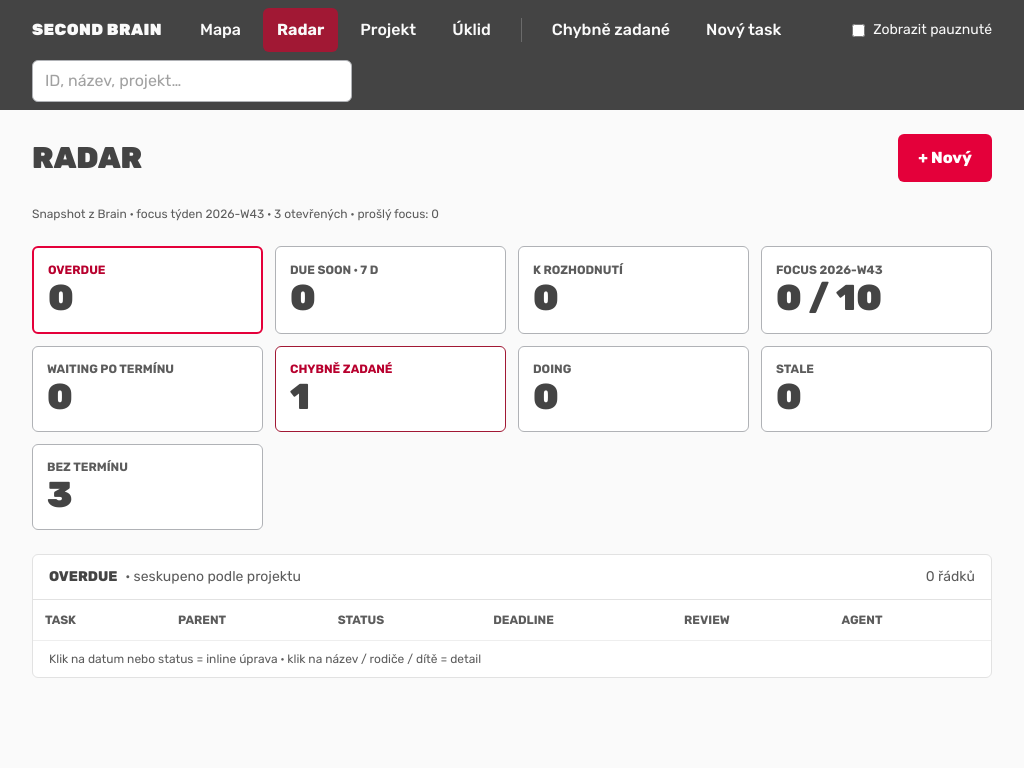
screens › B5 locks open children from a paused project and skips a Done child
Click the button "Úklid": point(471, 30) 438,8 -> 505,52
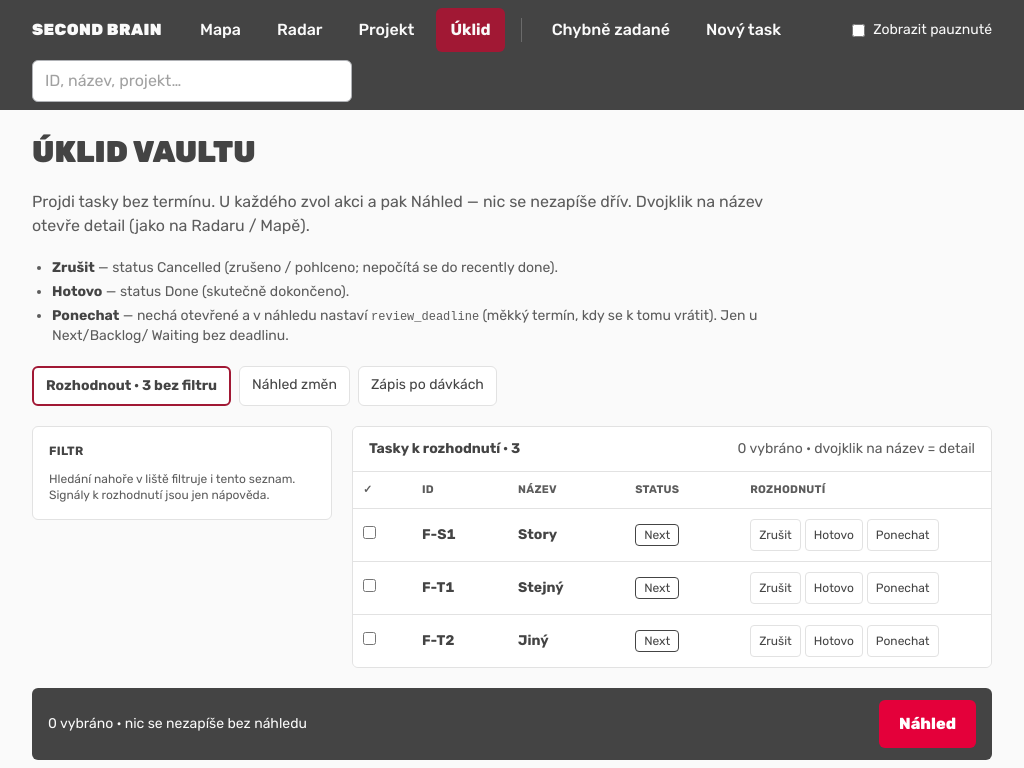
Check: the text "Pauza" is not shown
Click the checkbox named "Vybrat F-S1 — Story": point(370, 532) 363,526 -> 376,539
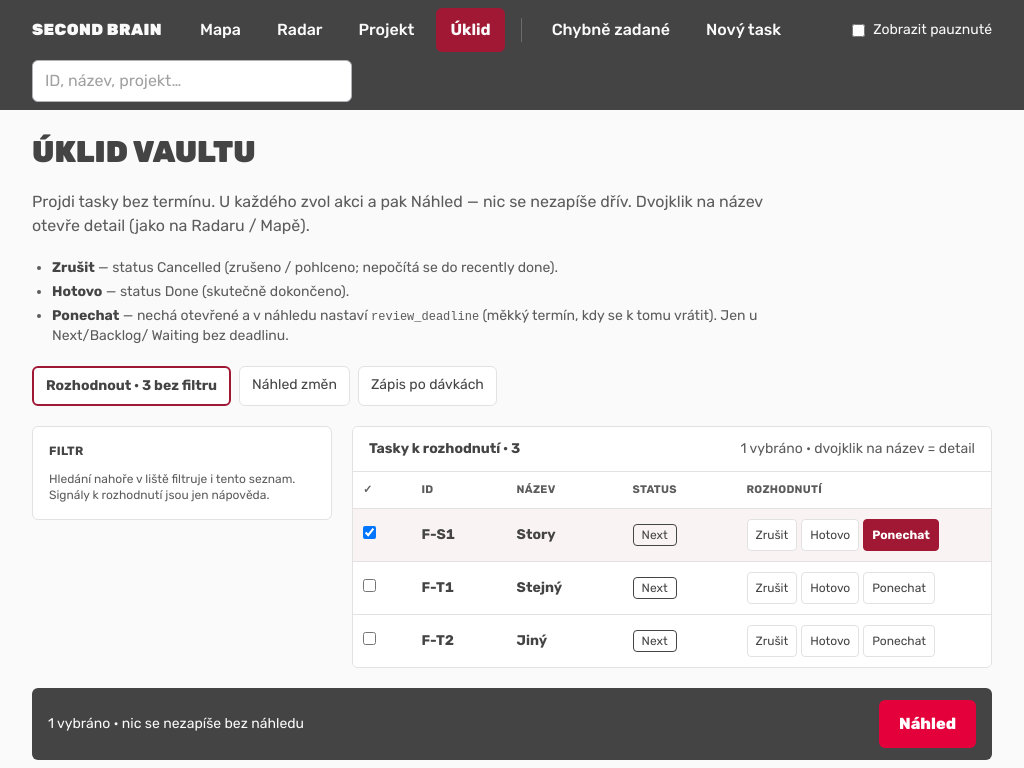
Click the button "Zrušit" in the row of "F-S1": point(772, 535) 746,519 -> 797,551
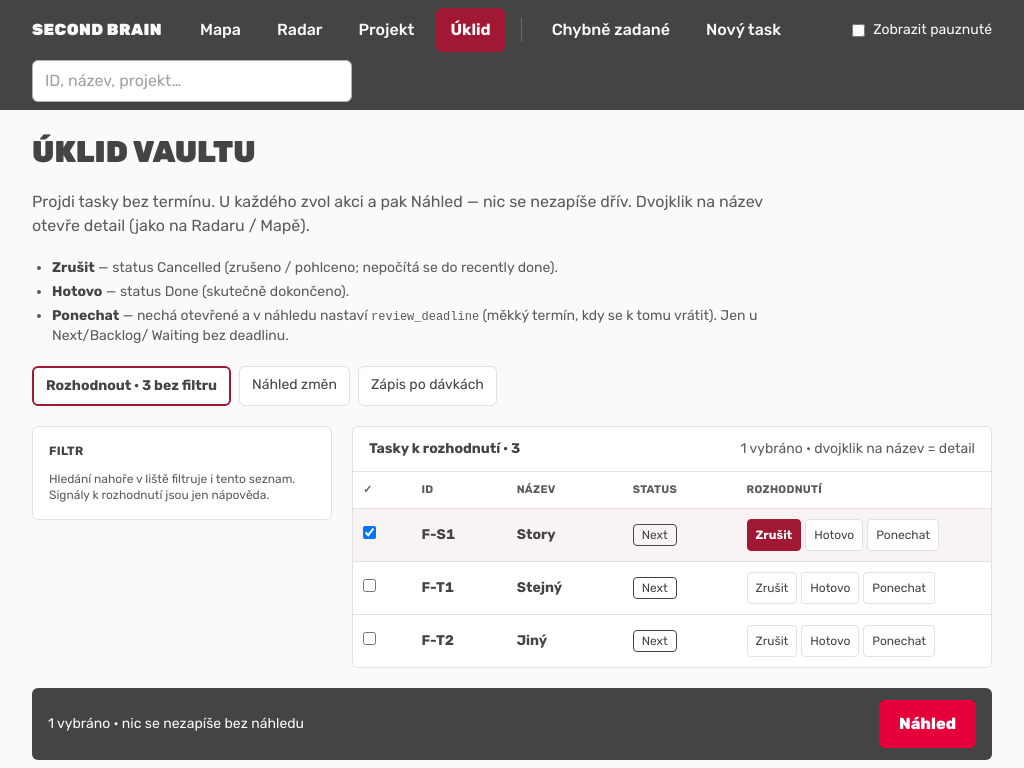
Click the button "Náhled": point(928, 724) 879,700 -> 976,748
(page scrolled)
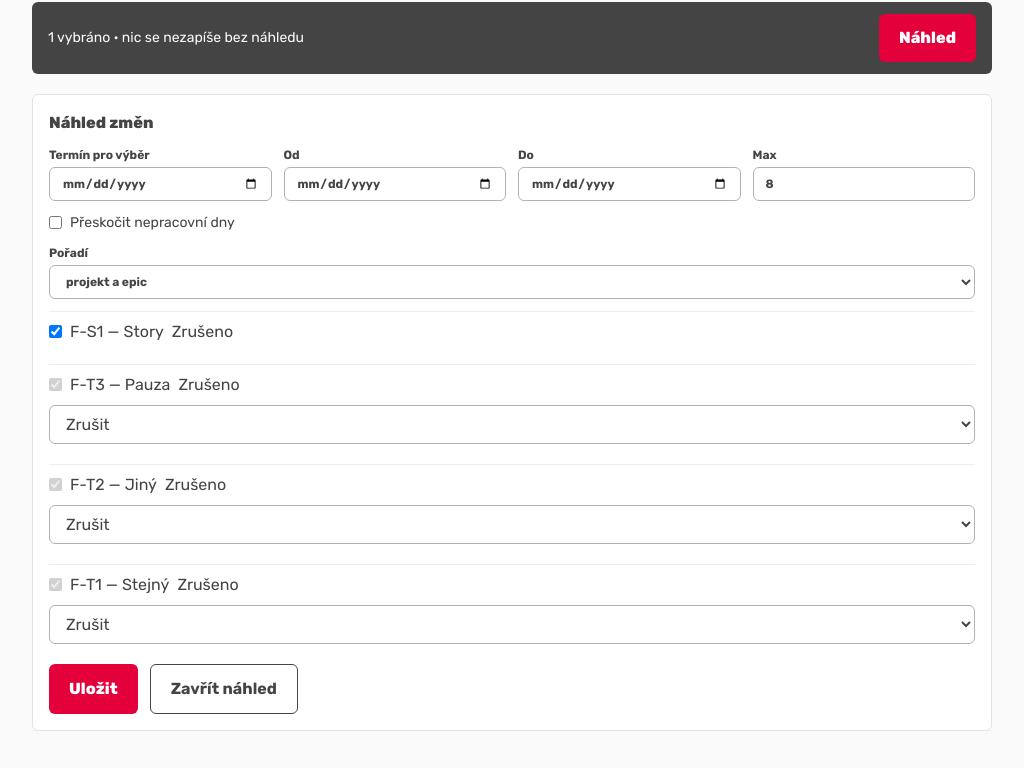
Check: the text "F-T3 — Pauza" is shown, box 49,373 -> 170,397
Check: the text "F-T2 — Jiný" is shown, box 49,473 -> 157,497
Check: the checkbox named "Náhled F-T3 — Pauza" is disabled, box 49,378 -> 62,391
